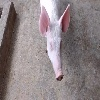heo: (37, 3, 72, 83)
